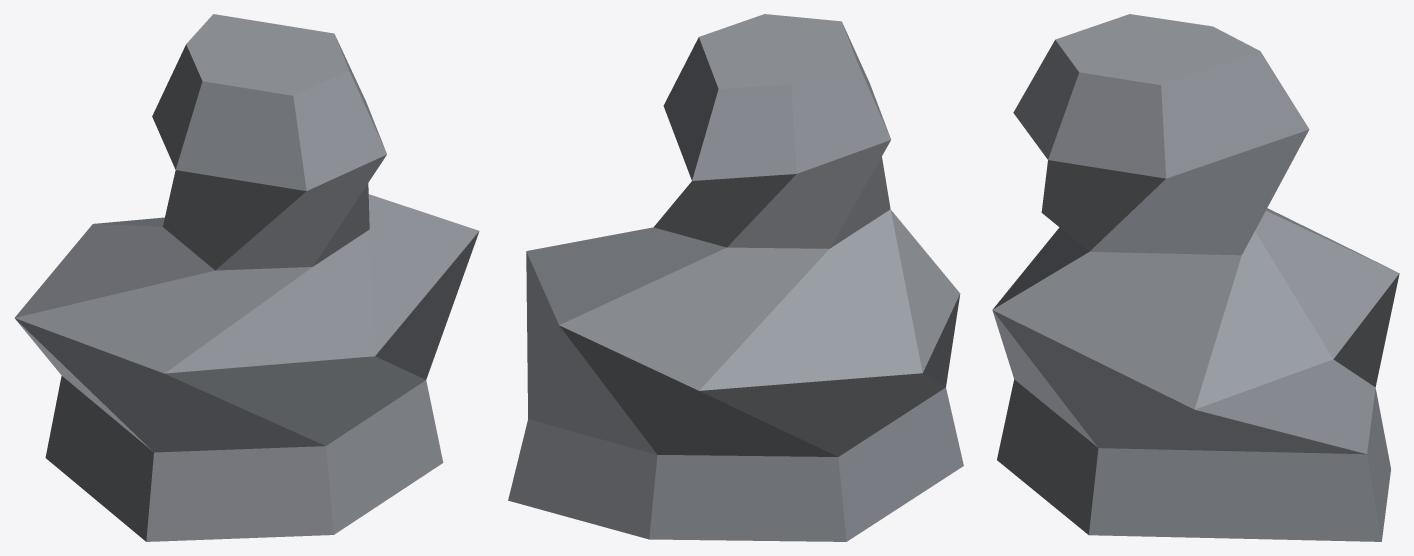
Rendered from Rock_v07.fbx.
3 renders of one model, left to right at view 1: azimuth 30°, elevation 25°; view 2: azimuth 150°, elevation 25°; view 3: azimuth 270°, elevation 25°, orthographic. The views are drawn at different scales.
Parts seen in each view (by area): view 1: Rock_v07; view 2: Rock_v07; view 3: Rock_v07.
Part boxes in pixels (<box>): Rock_v07: <box>14,14,479,541</box>; Rock_v07: <box>508,14,963,541</box>; Rock_v07: <box>992,14,1399,541</box>.
Bounding box in the file's own units: 32.94 × 30.18 × 26.84.
Materials: 1 (1 with a texture image).
